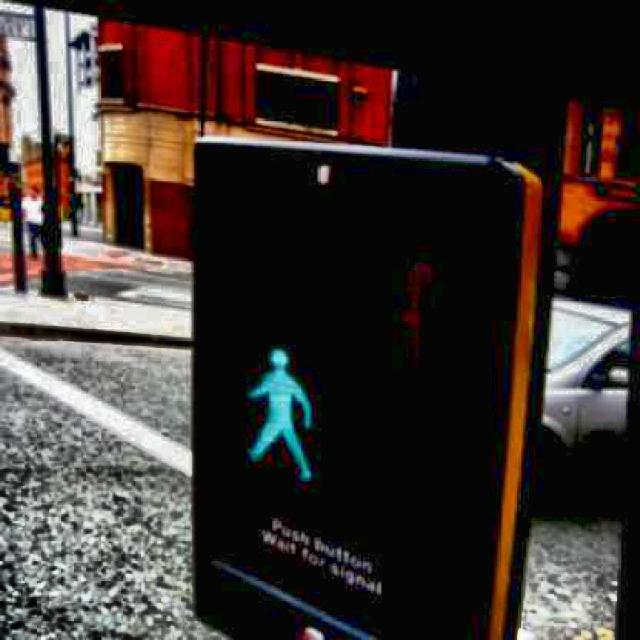semaforo pedestre: (121, 89, 585, 640)
